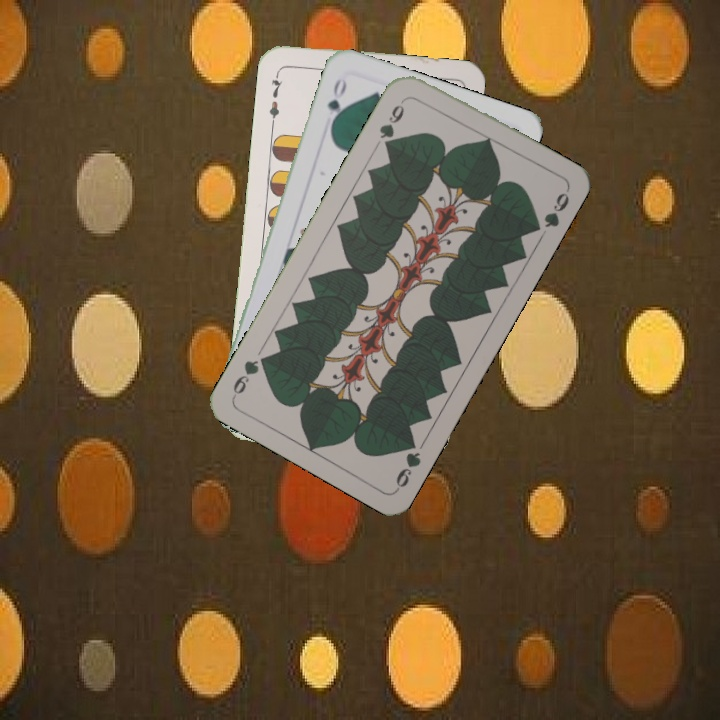E7: (265, 67, 285, 126)
G9: (391, 433, 424, 493), (375, 94, 409, 152)
GO: (323, 73, 350, 131)
